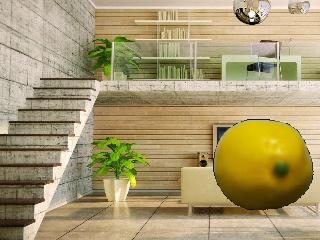lemon: (213, 118, 313, 210)
